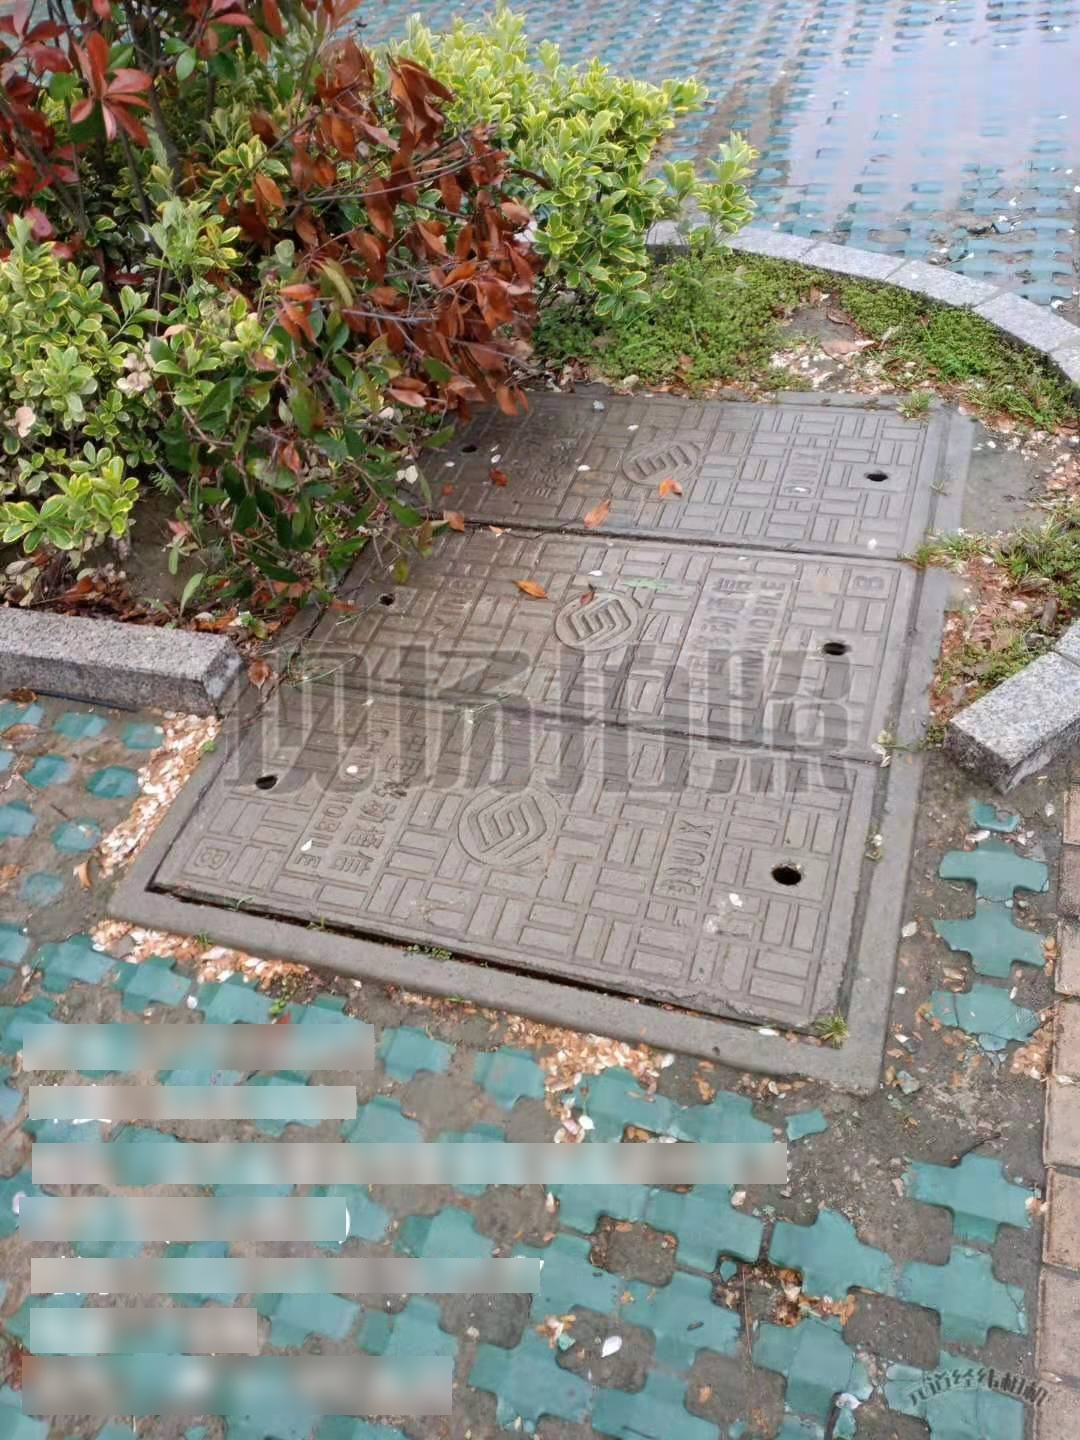good: (106, 392, 976, 1089)
